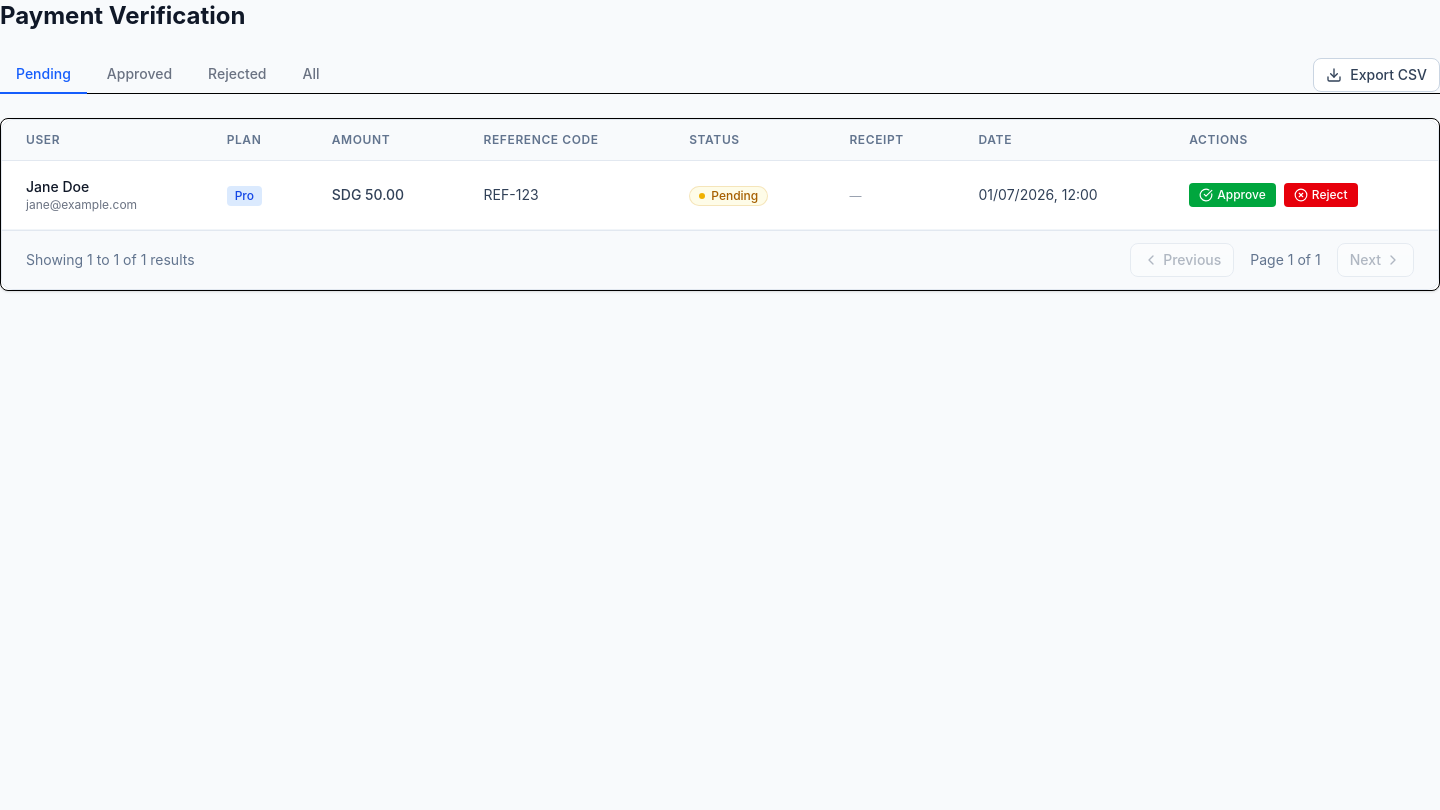
Scenario: PaymentsPage › approves a payment: sends the decision and raises a success toast
The width and height of the screenshot is (1440, 810).
Expected: the text "Jane Doe" is shown, [26, 178, 89, 195]
Click the button "Approve" at (1233,195), box [1189, 183, 1276, 207]
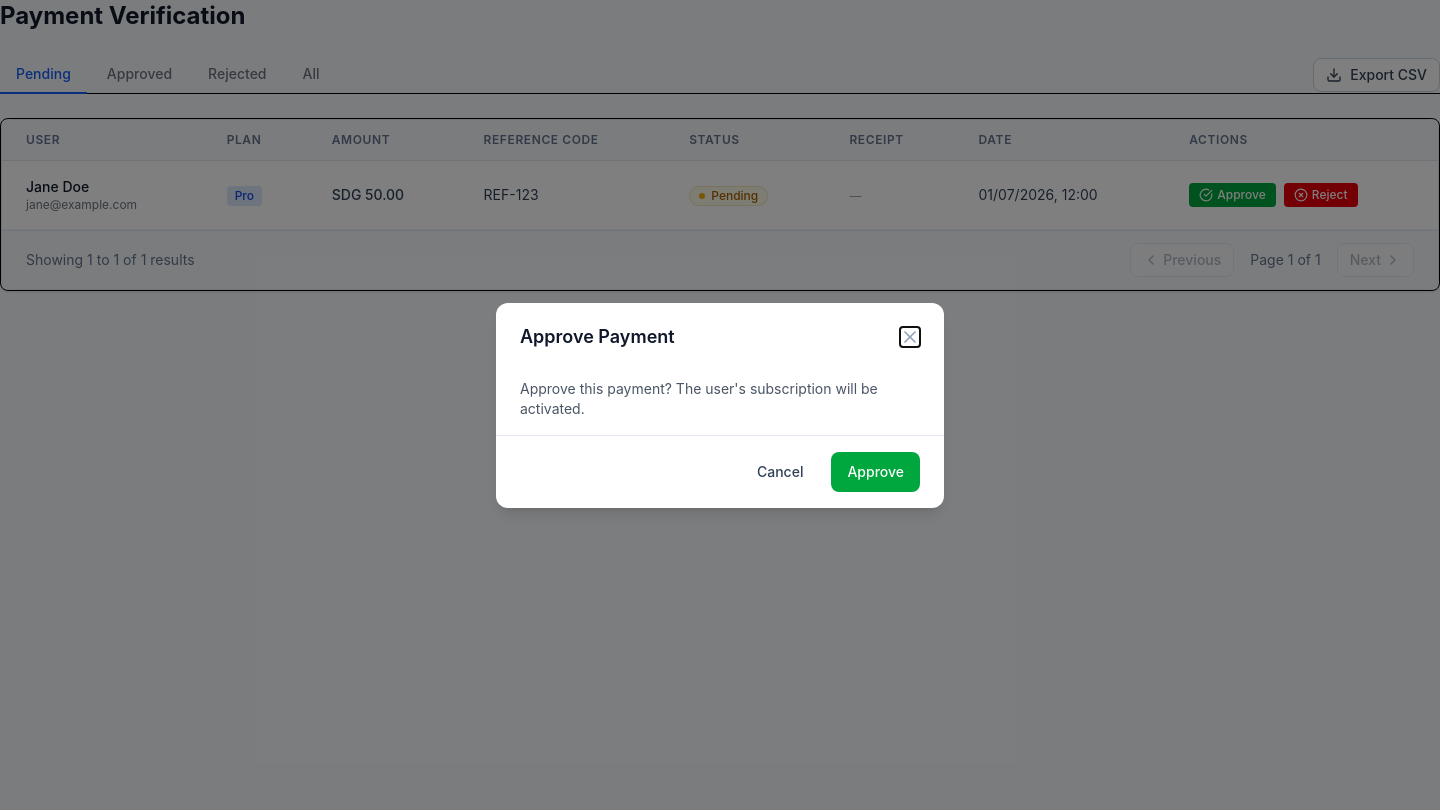
Click the button "Approve" at (876,472), box [831, 452, 920, 492]
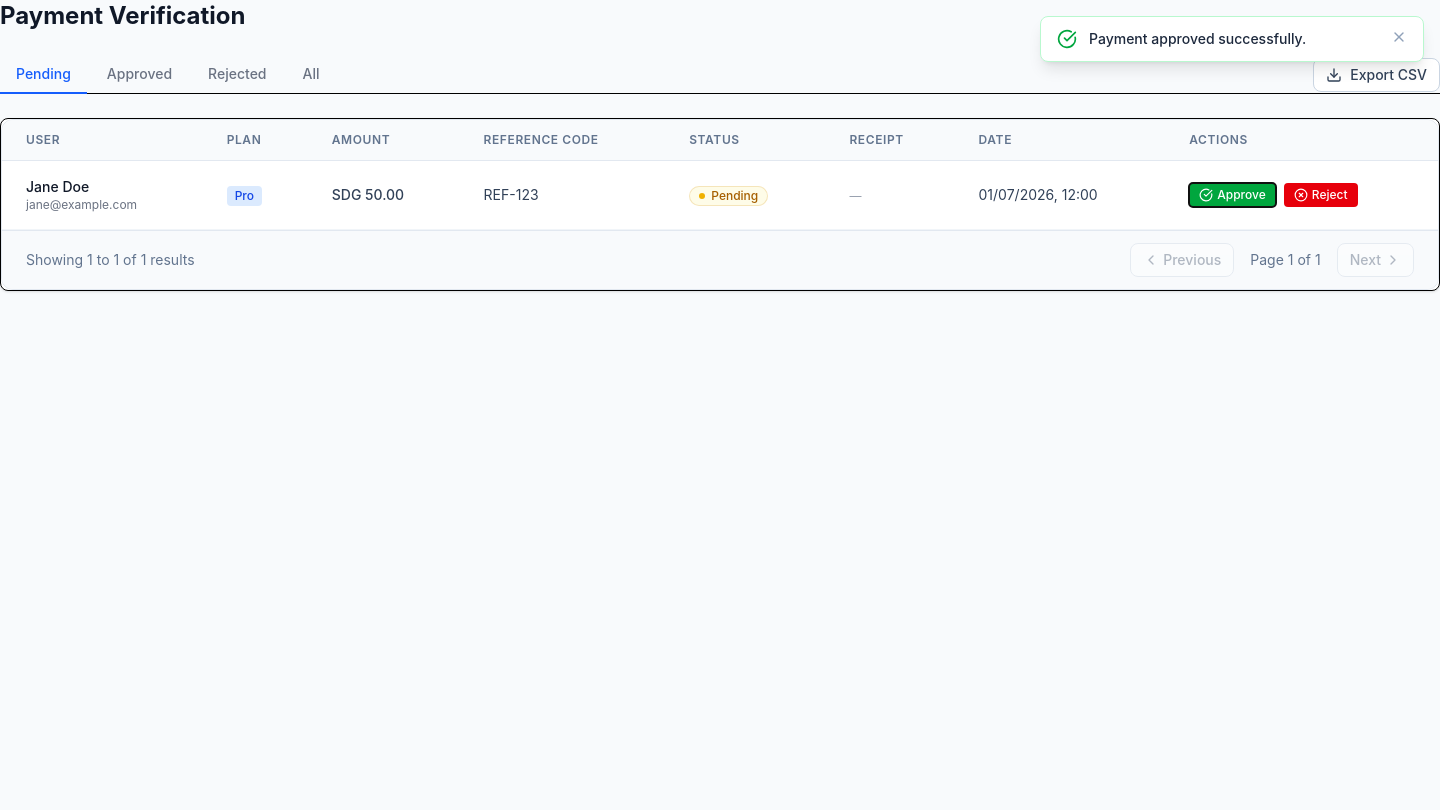
Now the text "Payment approved successfully." is shown, box [1089, 30, 1306, 47]
